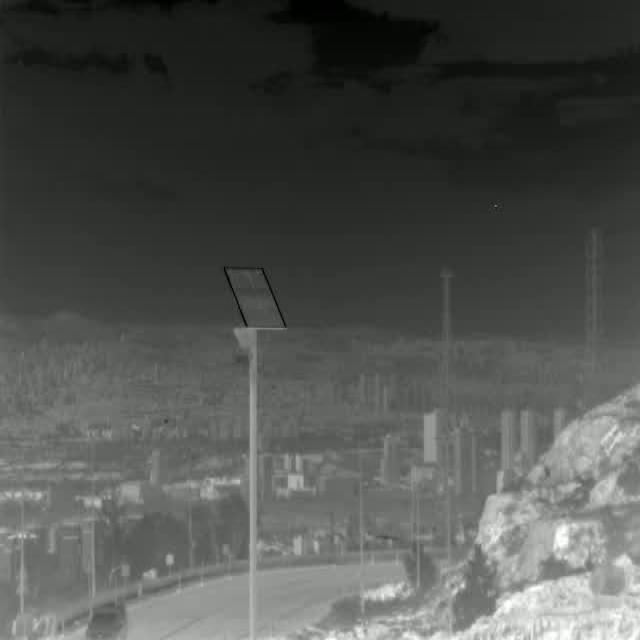Car: (84, 601, 128, 640)
